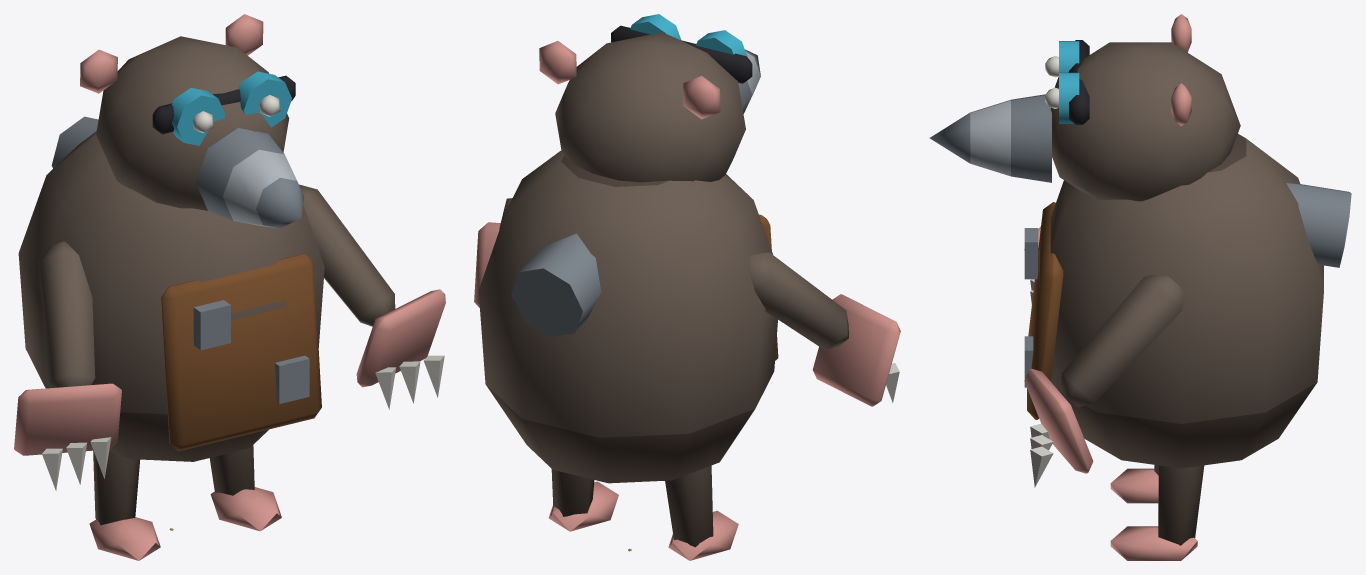
Rendered from e_wueste_maulwurf.glb.
The picture shows the model from 3 angles, left to right: view 1: azimuth 30°, elevation 25°; view 2: azimuth 150°, elevation 25°; view 3: azimuth 270°, elevation 25°; orthographic projection. The views are drawn at different scales.
Parts seen in each view (by area): view 1: body; view 2: body; view 3: body.
Part boxes in pixels (x1,y1,x2,y2): body: (14, 14, 445, 560); body: (474, 14, 900, 560); body: (929, 14, 1351, 560).
Size of the model in its own units: 1.41 by 1.57 by 1.24.
